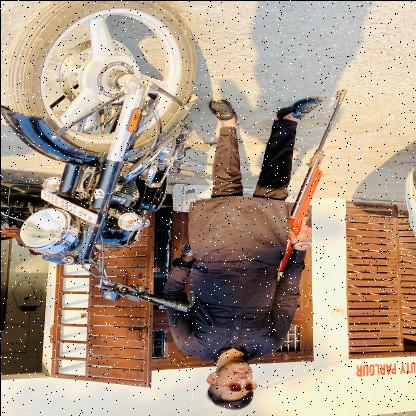rifle: (275, 86, 348, 272)
